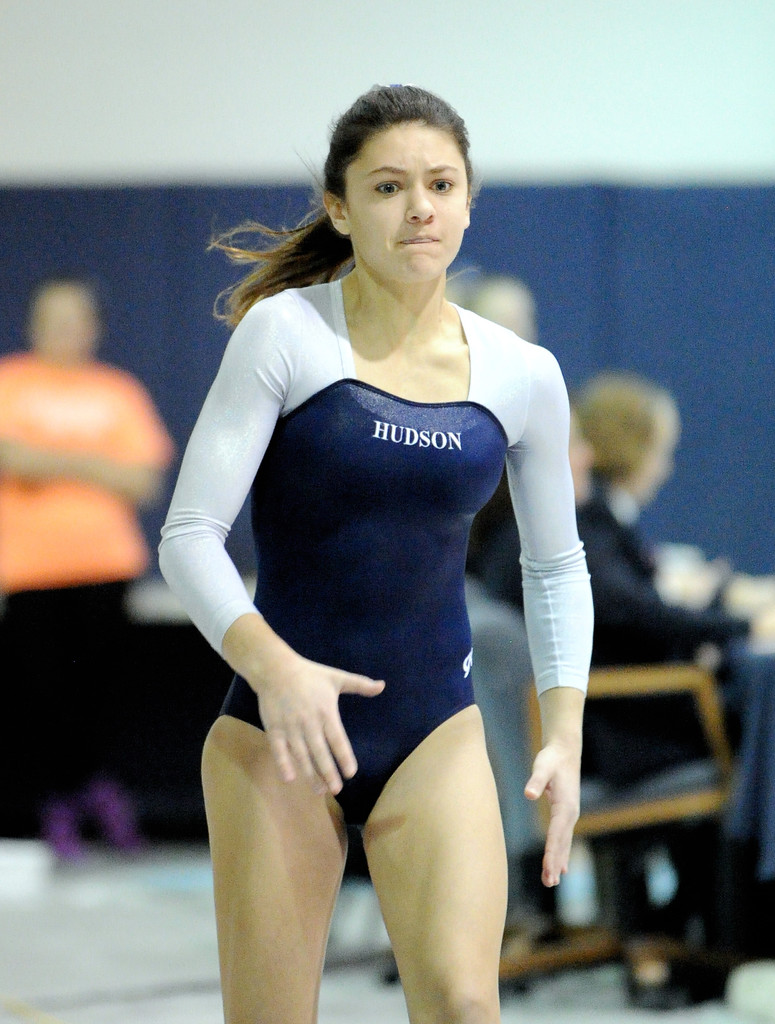Person: (479, 366, 758, 1007), (0, 270, 182, 885)
